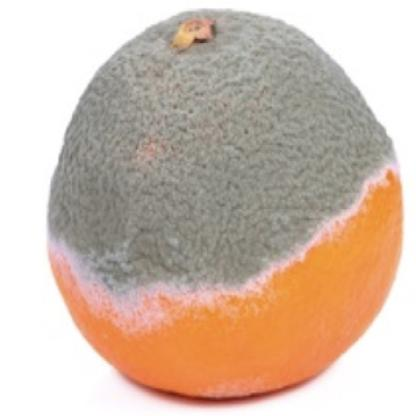rotten: (47, 11, 403, 406)
